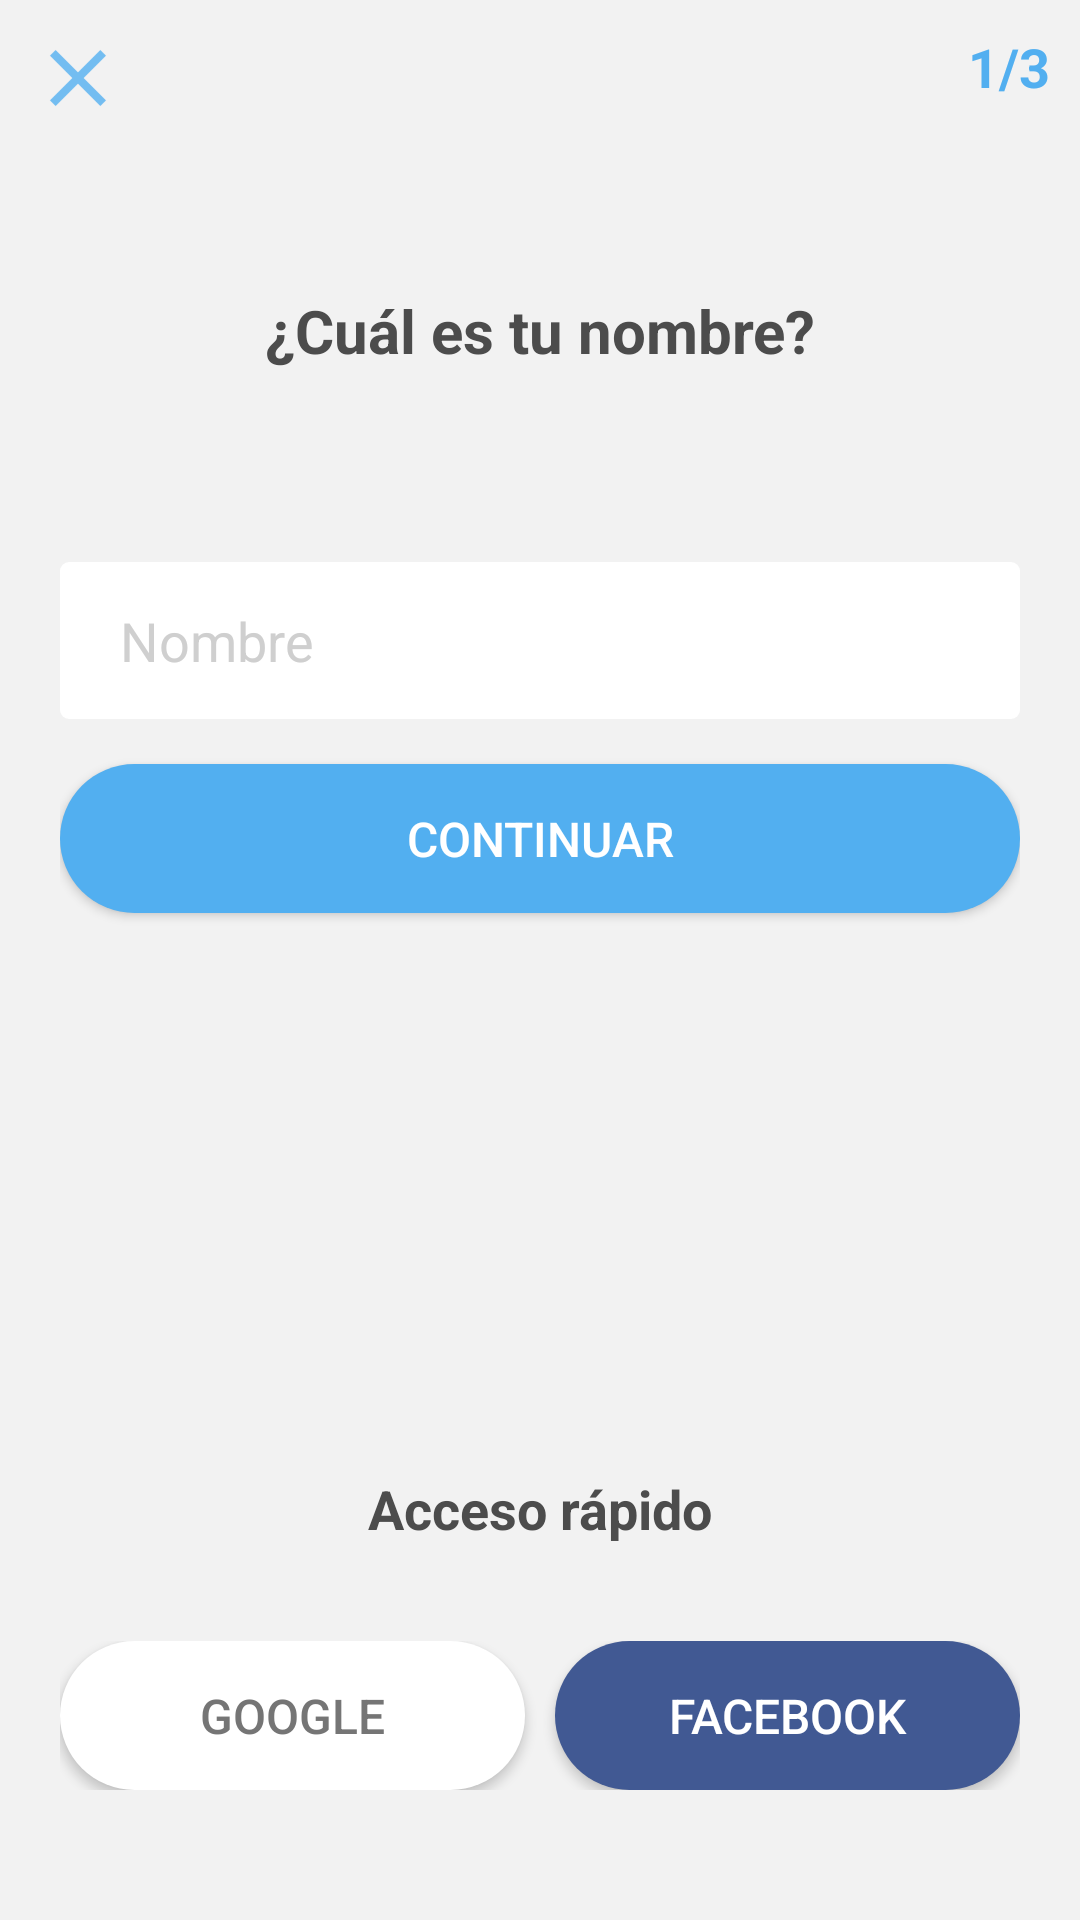

Where icons sit on this 1080w x 1920h app screen, as (x1, y1, x2, y2):
close: (50, 50, 106, 106)
